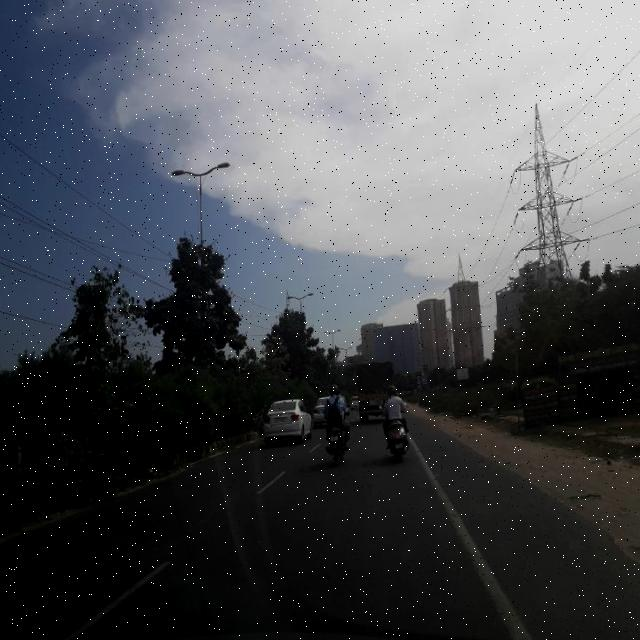D20: (236, 466, 447, 626)
